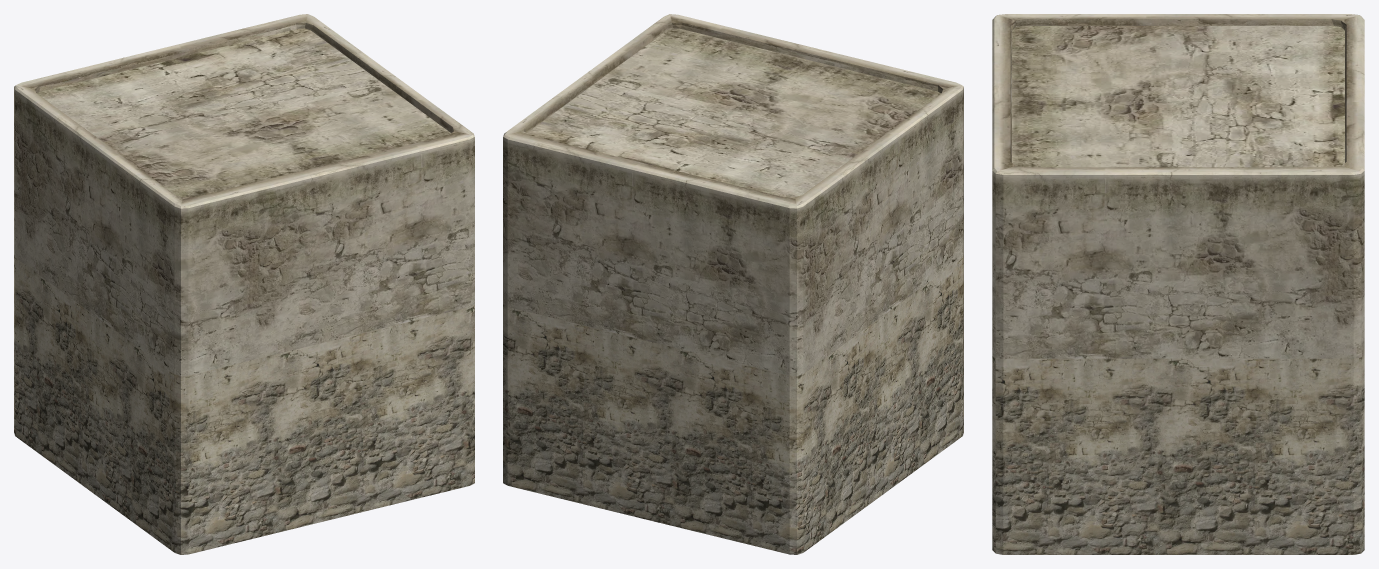
File: TW2_5_HOUSE_02_4-transformed.glb
3 renders of one model, left to right at view 1: azimuth 30°, elevation 25°; view 2: azimuth 150°, elevation 25°; view 3: azimuth 270°, elevation 25°, orthographic. The views are drawn at different scales.
Parts seen in each view (by area): view 1: default; view 2: default; view 3: default.
Boxes of the visible parts, x1,y1,x2,y2 form: default: [14, 14, 474, 554]; default: [503, 14, 963, 554]; default: [992, 14, 1364, 554].
Size of the model in its own units: 7.42 by 8.25 by 7.29.
2 materials, 2 textured.
